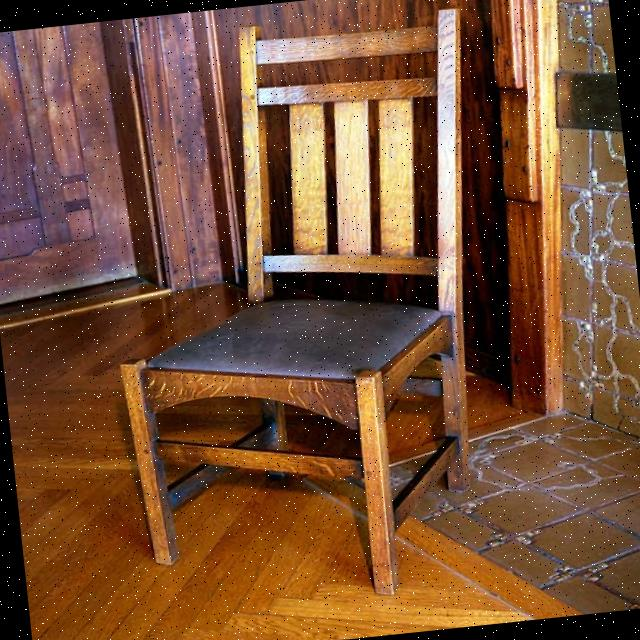Chair: (52, 0, 521, 618)
